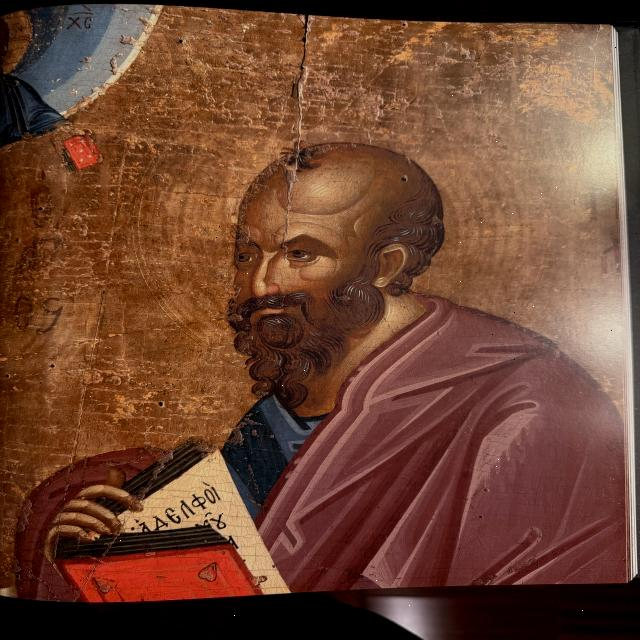book: (60, 433, 290, 595), (56, 130, 108, 175)
saint: (158, 111, 625, 582)
